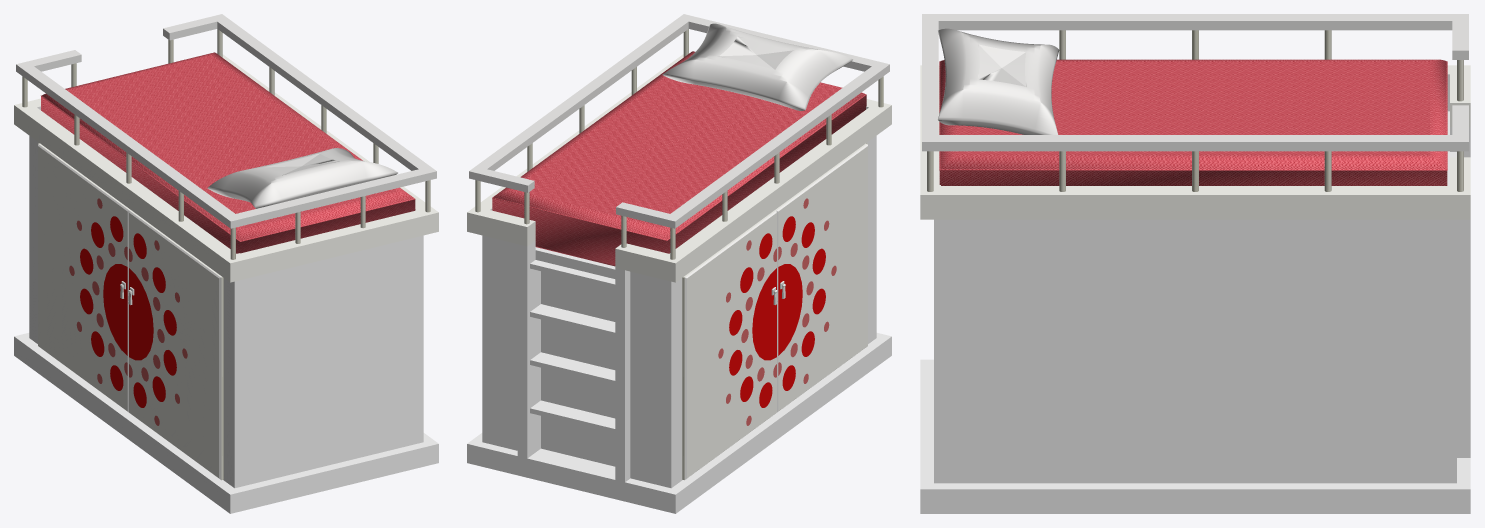
The picture shows the model from 3 angles, left to right: view 1: azimuth 30°, elevation 25°; view 2: azimuth 150°, elevation 25°; view 3: azimuth 270°, elevation 25°; orthographic projection. The views are drawn at different scales.
Visible parts, largest first — view 1: mesh22_mesh22-geometry_1, mesh1_mesh1-geometry_1, mesh45_mesh45-geometry_2, mesh33_mesh33-geometry_2, mesh22_mesh22-geometry, mesh20_mesh20-geometry, mesh2_mesh2-geometry, mesh33_mesh33-geometry_3, mesh45_mesh45-geometry_3, mesh45_mesh45-geometry_1, mesh33_mesh33-geometry, mesh45_mesh45-geometry (+2 smaller); view 2: mesh22_mesh22-geometry_1, mesh1_mesh1-geometry_1, mesh33_mesh33-geometry_2, mesh45_mesh45-geometry_2, mesh22_mesh22-geometry, mesh20_mesh20-geometry, mesh2_mesh2-geometry, mesh45_mesh45-geometry_3, mesh33_mesh33-geometry_3, mesh33_mesh33-geometry_1, mesh45_mesh45-geometry, mesh33_mesh33-geometry (+2 smaller); view 3: mesh22_mesh22-geometry_1, mesh1_mesh1-geometry_1, mesh20_mesh20-geometry, mesh22_mesh22-geometry, mesh2_mesh2-geometry.
Part boxes in pixels (<box>): mesh22_mesh22-geometry_1: <box>14,106,438,513</box>; mesh1_mesh1-geometry_1: <box>41,52,415,253</box>; mesh45_mesh45-geometry_2: <box>129,210,221,477</box>; mesh33_mesh33-geometry_2: <box>38,143,130,411</box>; mesh22_mesh22-geometry: <box>14,54,438,282</box>; mesh20_mesh20-geometry: <box>16,14,436,228</box>; mesh2_mesh2-geometry: <box>207,148,397,208</box>; mesh33_mesh33-geometry_3: <box>80,216,127,390</box>; mesh45_mesh45-geometry_3: <box>129,233,176,407</box>; mesh45_mesh45-geometry_1: <box>129,211,221,479</box>; mesh33_mesh33-geometry: <box>69,198,127,383</box>; mesh45_mesh45-geometry: <box>129,240,187,425</box>; mesh22_mesh22-geometry_1: <box>467,106,891,513</box>; mesh1_mesh1-geometry_1: <box>492,51,866,266</box>; mesh33_mesh33-geometry_2: <box>684,210,776,477</box>; mesh45_mesh45-geometry_2: <box>775,143,867,411</box>; mesh22_mesh22-geometry: <box>467,54,891,282</box>; mesh20_mesh20-geometry: <box>469,14,889,228</box>; mesh2_mesh2-geometry: <box>662,23,852,110</box>; mesh45_mesh45-geometry_3: <box>778,216,825,390</box>; mesh33_mesh33-geometry_3: <box>729,233,776,407</box>; mesh33_mesh33-geometry_1: <box>684,211,776,479</box>; mesh45_mesh45-geometry: <box>778,198,836,383</box>; mesh33_mesh33-geometry: <box>718,240,776,425</box>; mesh22_mesh22-geometry_1: <box>920,74,1470,513</box>; mesh1_mesh1-geometry_1: <box>939,59,1447,185</box>; mesh20_mesh20-geometry: <box>922,14,1468,151</box>; mesh22_mesh22-geometry: <box>920,65,1470,219</box>; mesh2_mesh2-geometry: <box>938,28,1059,134</box>.
Bounding box in the file's own units: 0.4028 × 0.5612 × 0.723.
Materials: 10 (3 with a texture image).
